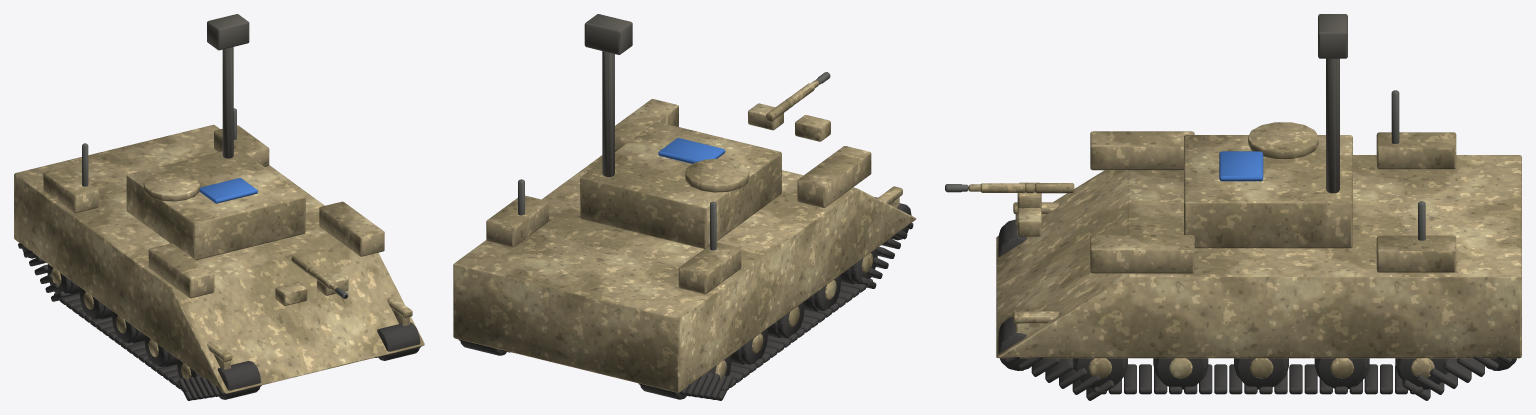
File: rec_e4_us_recon_LOD0.glb
3 views of the same model, side by side, from view 1: azimuth 30°, elevation 25°; view 2: azimuth 150°, elevation 25°; view 3: azimuth 270°, elevation 25° (orthographic). The views are drawn at different scales.
Visible parts, largest first — view 1: rec_e4_us_recon_LOD0_body, rec_e4_us_recon_LOD0_track, rec_e4_us_recon_LOD0_deck, rec_e4_us_recon_LOD0_team, rec_e4_us_recon_LOD0_gun; view 2: rec_e4_us_recon_LOD0_body, rec_e4_us_recon_LOD0_track, rec_e4_us_recon_LOD0_deck, rec_e4_us_recon_LOD0_team, rec_e4_us_recon_LOD0_gun; view 3: rec_e4_us_recon_LOD0_body, rec_e4_us_recon_LOD0_track, rec_e4_us_recon_LOD0_deck, rec_e4_us_recon_LOD0_team, rec_e4_us_recon_LOD0_gun.
Boxes of the visible parts, <box> form: rec_e4_us_recon_LOD0_body: <box>14,124,424,393</box>; rec_e4_us_recon_LOD0_track: <box>18,243,421,400</box>; rec_e4_us_recon_LOD0_deck: <box>207,14,249,158</box>; rec_e4_us_recon_LOD0_team: <box>199,178,257,203</box>; rec_e4_us_recon_LOD0_gun: <box>82,108,348,298</box>; rec_e4_us_recon_LOD0_body: <box>453,80,916,392</box>; rec_e4_us_recon_LOD0_track: <box>458,197,913,400</box>; rec_e4_us_recon_LOD0_deck: <box>584,14,632,176</box>; rec_e4_us_recon_LOD0_team: <box>658,138,725,163</box>; rec_e4_us_recon_LOD0_gun: <box>518,72,830,250</box>; rec_e4_us_recon_LOD0_body: <box>968,122,1521,378</box>; rec_e4_us_recon_LOD0_track: <box>998,219,1516,400</box>; rec_e4_us_recon_LOD0_deck: <box>1318,14,1347,193</box>; rec_e4_us_recon_LOD0_team: <box>1219,151,1263,181</box>; rec_e4_us_recon_LOD0_gun: <box>945,90,1425,240</box>.
Size of the model in its own units: 2.9 by 3.78 by 5.8.
Materials: 6 (1 with a texture image).
